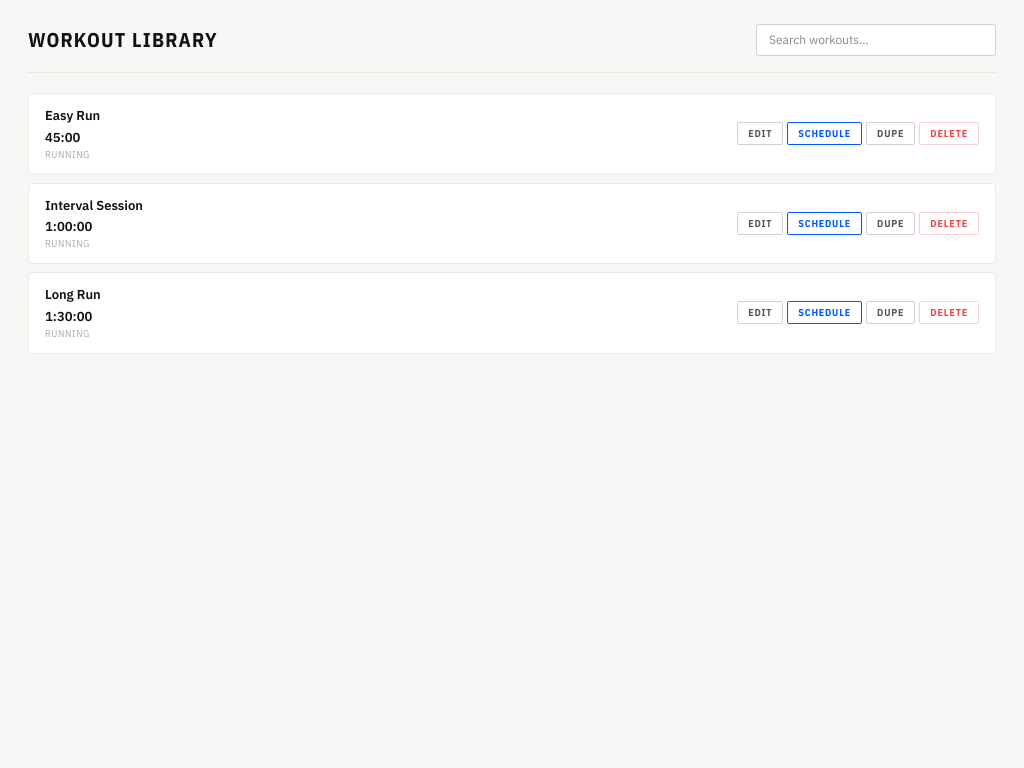
Test: test_schedule_opens_picker › click Schedule → date picker shown
The image size is (1024, 768).
Click the button "Schedule" in the row of "45:00" at (825, 134), box 787,122 -> 862,145
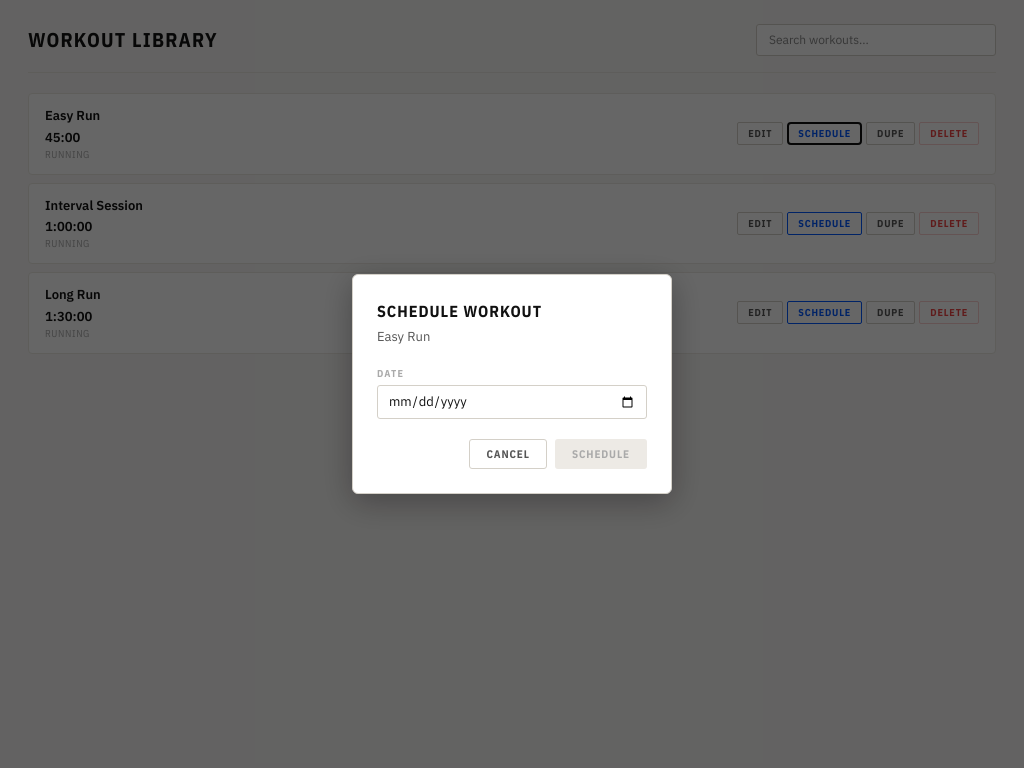
Check: the dialog "Schedule Workout Easy Run Date Cancel Schedule" is shown
